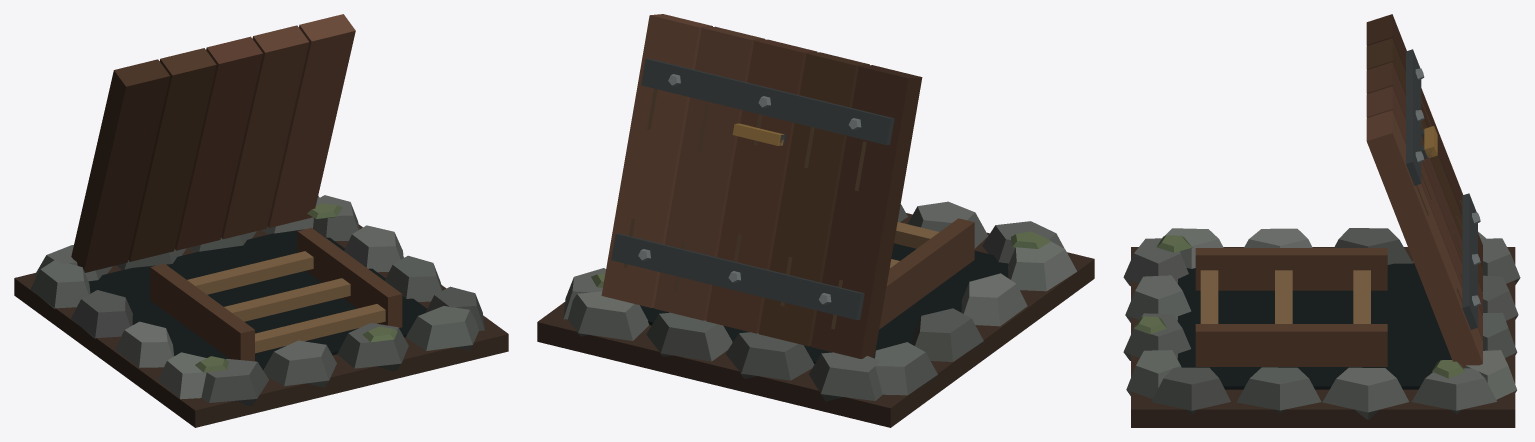
Rendered from road-hatch-open.glb.
3 renders of one model, left to right at view 1: azimuth 30°, elevation 25°; view 2: azimuth 150°, elevation 25°; view 3: azimuth 270°, elevation 25°, orthographic. The views are drawn at different scales.
Visible parts, largest first — view 1: Roadside hatch · open; view 2: Roadside hatch · open; view 3: Roadside hatch · open.
Part boxes in pixels (box(x1,y1,x2,y2)): Roadside hatch · open: box(14, 14, 508, 427); Roadside hatch · open: box(537, 14, 1094, 427); Roadside hatch · open: box(1123, 14, 1520, 427).
Bounding box in the file's own units: 1 × 0.769 × 1.01.
